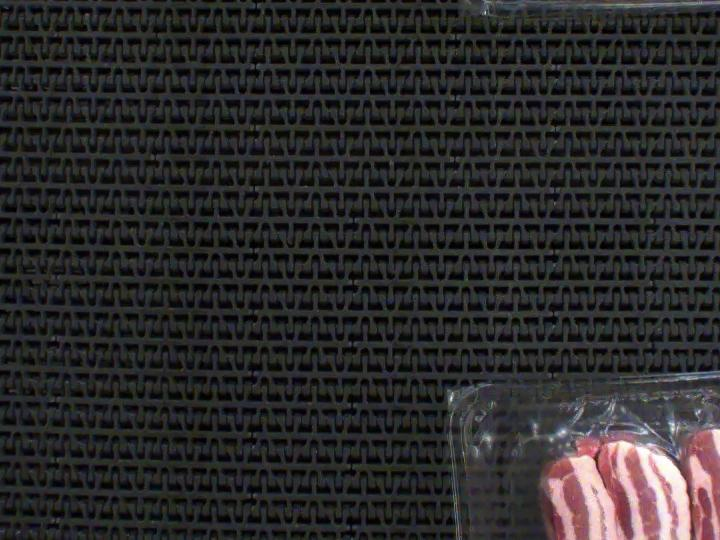unsealed: (474, 353, 720, 540)
